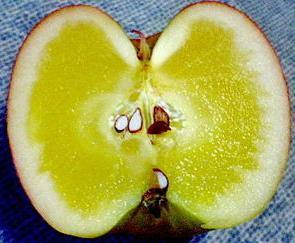apple: (4, 2, 291, 237)
